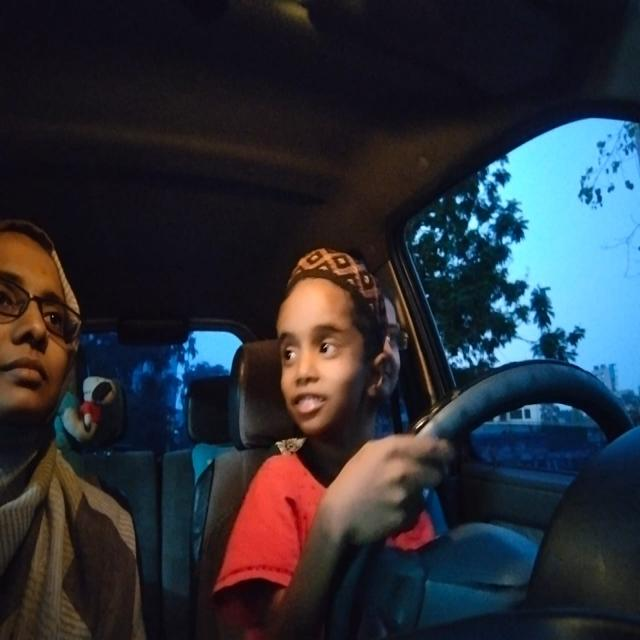child: (274, 244, 393, 436)
person: (2, 211, 86, 432)
